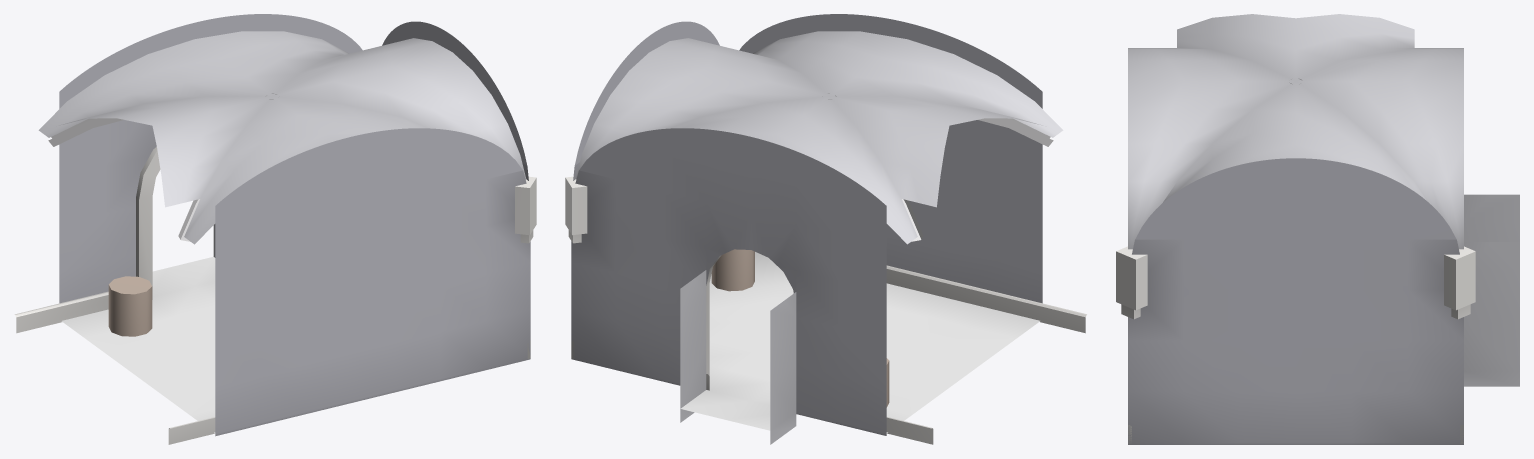
File: crypt_05_bc.glb
3 renders of one model, left to right at view 1: azimuth 30°, elevation 25°; view 2: azimuth 150°, elevation 25°; view 3: azimuth 270°, elevation 25°, orthographic. The views are drawn at different scales.
Visible parts, largest first — view 1: crypt_05_bc; view 2: crypt_05_bc; view 3: crypt_05_bc.
Boxes of the visible parts, x1,y1,x2,y2 form: crypt_05_bc: (14,14,536,444); crypt_05_bc: (565,14,1086,444); crypt_05_bc: (1116,14,1519,444).
Bounding box in the file's own units: 8.21 × 5.9 × 7.21.
